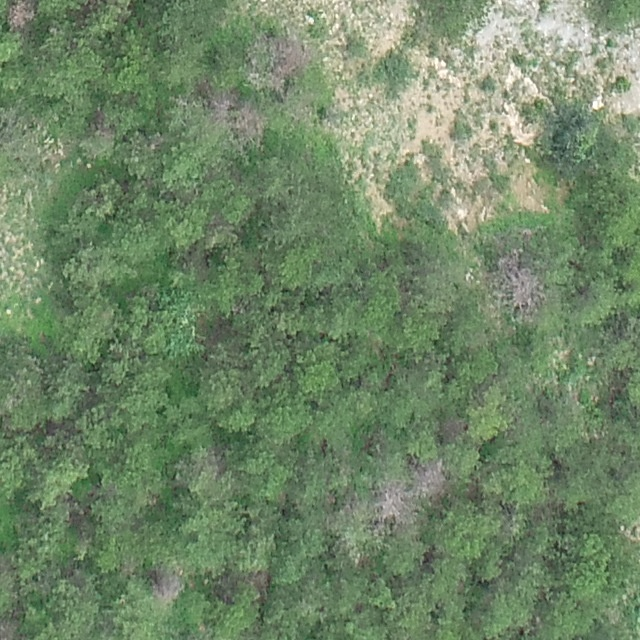unhealthy: (259, 32, 315, 89), (494, 252, 541, 312), (374, 479, 413, 524), (410, 458, 449, 498), (232, 99, 267, 141), (150, 568, 185, 606), (205, 89, 234, 130), (6, 0, 38, 32), (441, 414, 469, 441), (248, 569, 268, 595)
